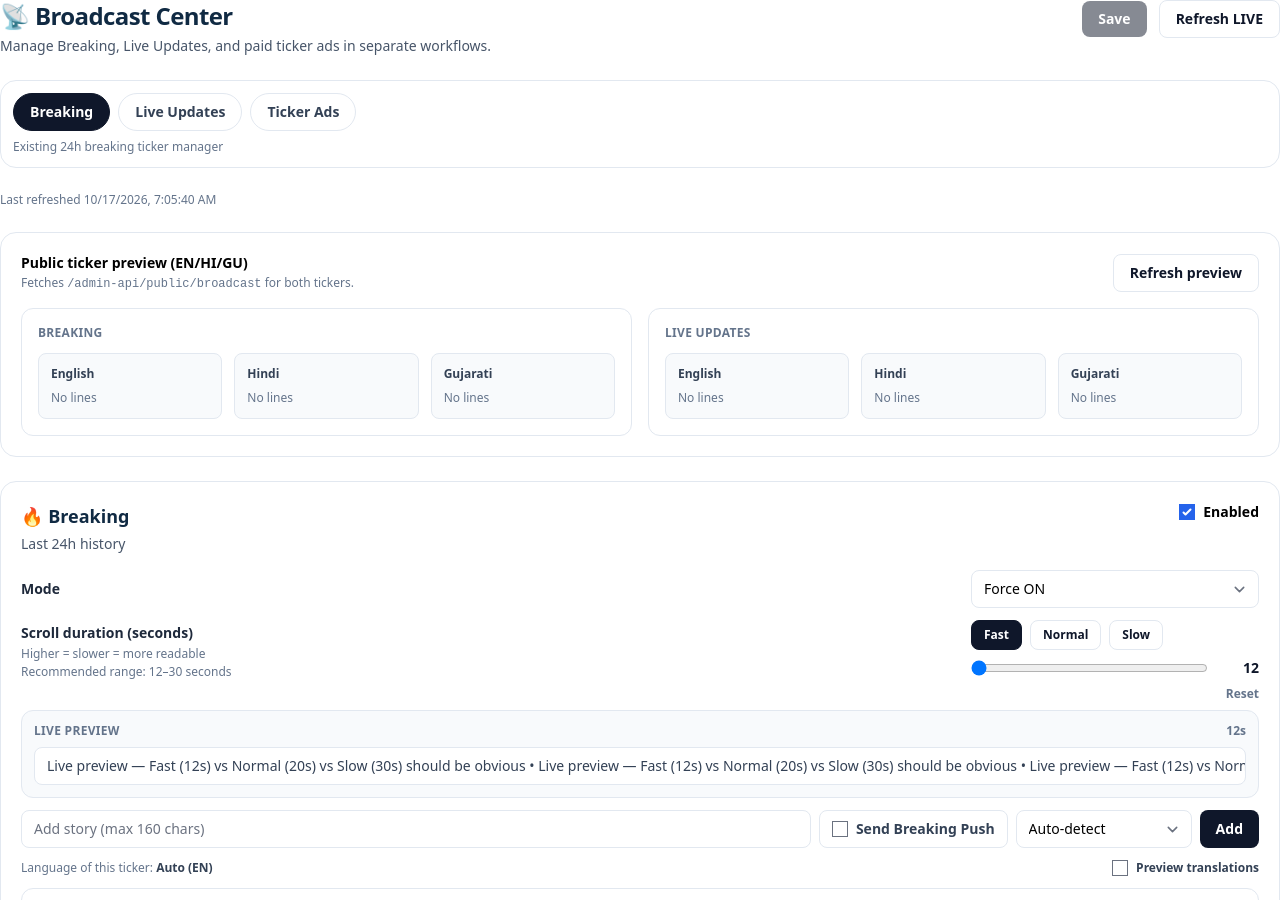
BroadcastCenter breaking push modal › shows the anti-spam warning in the breaking push confirmation modal
Type "Urgent admin update" into the field with placeholder "Add story (max 160 chars)". click: [416, 829]
box: x1=21 y1=810 x2=811 y2=848
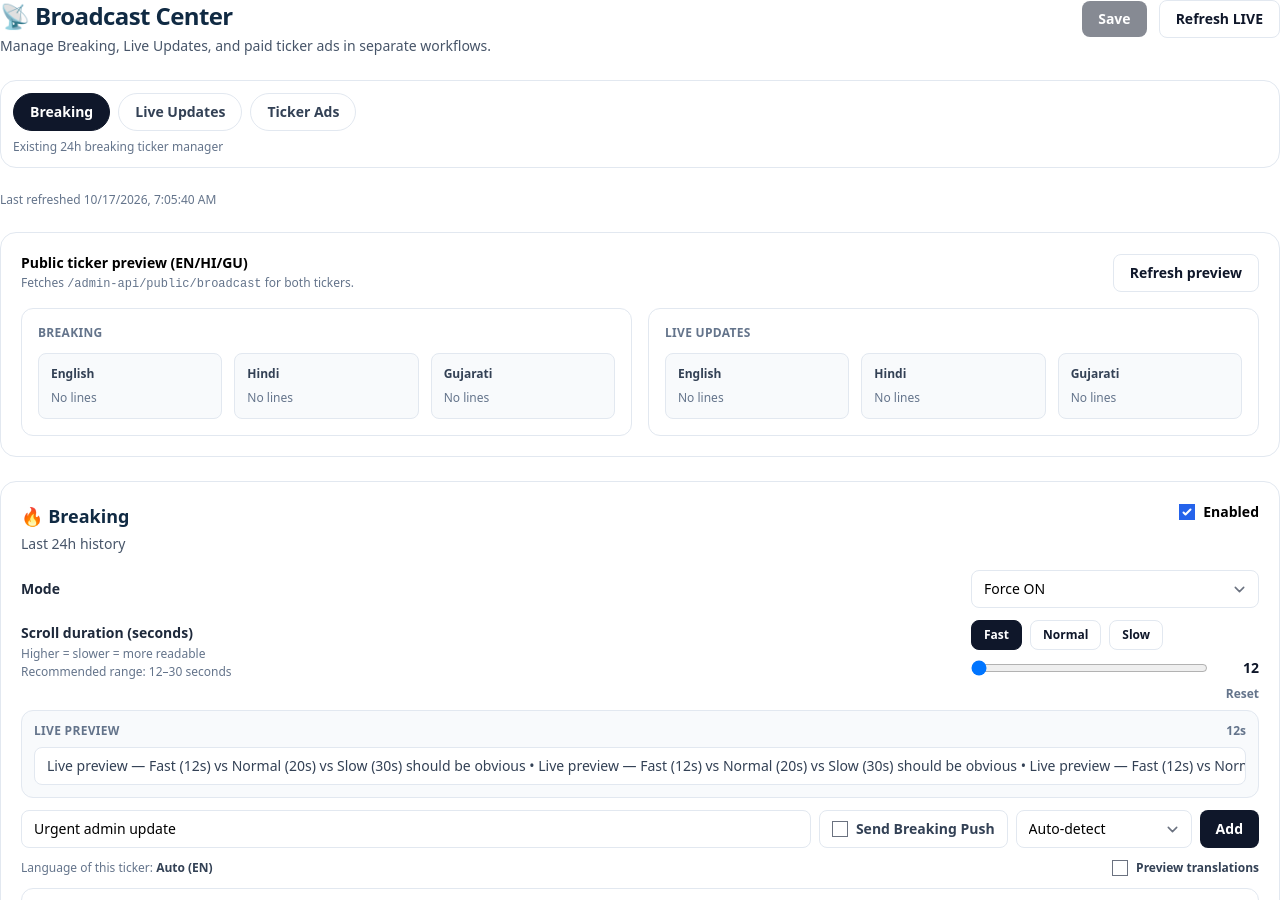
Click the checkbox labelled "Send Breaking Push". click: [840, 829]
box: x1=832 y1=821 x2=848 y2=837
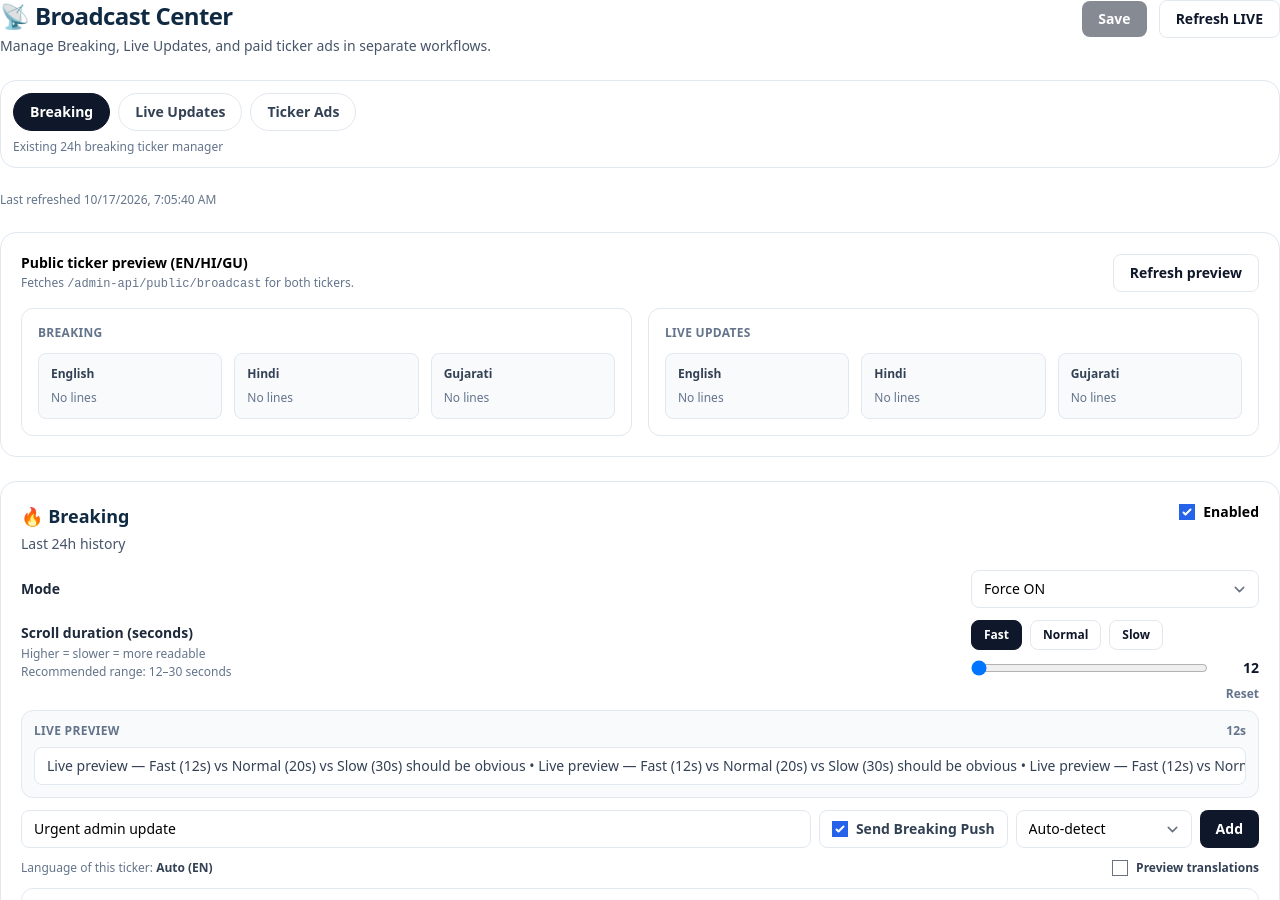
Click the button "Add". click: [1229, 829]
box: x1=1200 y1=810 x2=1259 y2=848
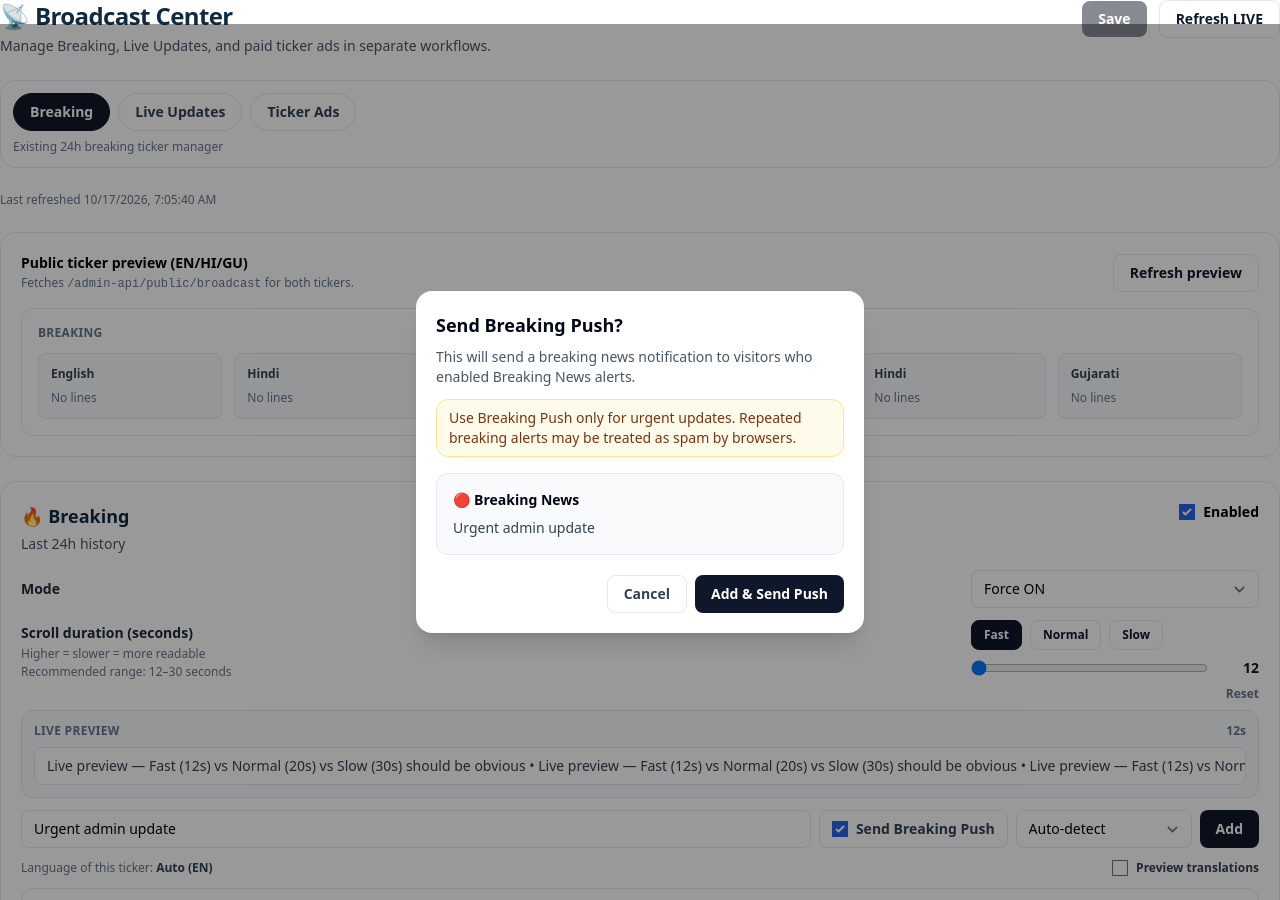
Check: the text "Send Breaking Push?" is shown, box x1=436 y1=313 x2=623 y2=337
Check: the text "Use Breaking Push only for urgent updates. Repeated breaking alerts may be treated as spam by browsers." is shown, box x1=449 y1=408 x2=802 y2=447
